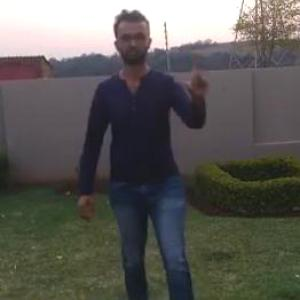land_hand: (178, 50, 216, 99)
